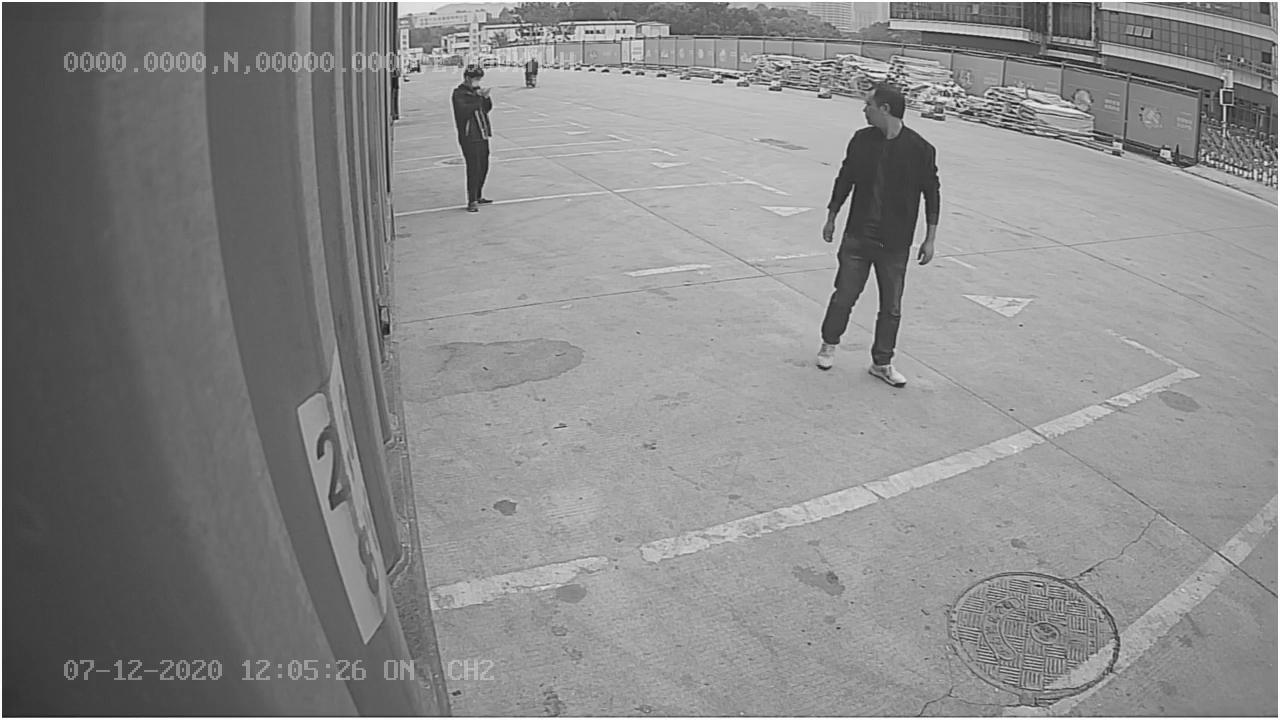person: (815, 78, 943, 394)
